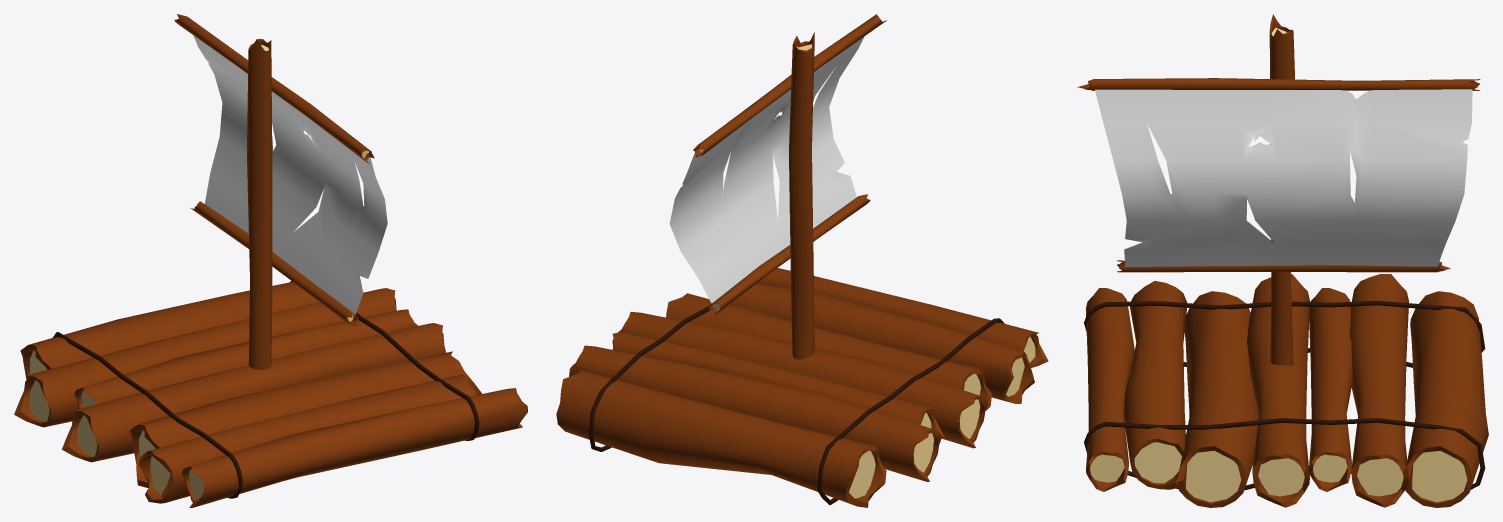
The model's file is Raft.glb.
The picture shows the model from 3 angles, left to right: view 1: azimuth 30°, elevation 25°; view 2: azimuth 150°, elevation 25°; view 3: azimuth 270°, elevation 25°; orthographic projection. The views are drawn at different scales.
Visible parts, largest first — view 1: Plane.001, Cylinder.003, Cylinder, Cylinder.004, Cylinder.001, Cylinder.002, Cylinder.007, Cylinder.006, Cylinder.005, Cylinder.008, Cylinder.009, Rope.001 (+1 smaller); view 2: Plane.001, Cylinder.006, Cylinder.004, Cylinder, Cylinder.002, Cylinder.007, Cylinder.001, Cylinder.005, Cylinder.003, Cylinder.008, Cylinder.009, Rope.001 (+1 smaller); view 3: Plane.001, Cylinder.006, Cylinder.001, Cylinder.004, Cylinder.002, Cylinder, Cylinder.003, Cylinder.005, Cylinder.008, Cylinder.007, Rope, Cylinder.009 (+1 smaller).
Part boxes in pixels (x1,y1,x2,y2): Plane.001: (193, 35, 387, 314); Cylinder.003: (182, 388, 527, 507); Cylinder: (62, 323, 445, 462); Cylinder.004: (14, 288, 396, 427); Cylinder.001: (129, 351, 481, 487); Cylinder.002: (138, 374, 476, 503); Cylinder.007: (247, 38, 272, 369); Cylinder.006: (20, 282, 319, 379); Cylinder.005: (74, 309, 417, 408); Cylinder.008: (174, 14, 374, 164); Cylinder.009: (190, 201, 358, 325); Rope.001: (52, 332, 242, 498); Plane.001: (669, 36, 864, 305); Cylinder.006: (556, 370, 886, 507); Cylinder.004: (569, 345, 941, 481); Cylinder: (618, 312, 987, 448); Cylinder.002: (729, 283, 1034, 403); Cylinder.007: (789, 32, 814, 359); Cylinder.001: (666, 293, 991, 410); Cylinder.005: (612, 332, 944, 438); Cylinder.003: (756, 268, 1048, 367); Cylinder.008: (693, 14, 886, 157); Cylinder.009: (708, 194, 870, 315); Rope.001: (817, 318, 1004, 505); Plane.001: (1095, 89, 1472, 267); Cylinder.006: (1405, 291, 1488, 507); Cylinder.001: (1177, 291, 1258, 507); Cylinder.004: (1349, 274, 1408, 507); Cylinder.002: (1123, 281, 1187, 489); Cylinder: (1247, 274, 1309, 507); Cylinder.003: (1085, 288, 1134, 491); Cylinder.005: (1308, 288, 1352, 491); Cylinder.008: (1077, 78, 1480, 90); Cylinder.007: (1269, 14, 1294, 365); Rope: (1084, 418, 1485, 490); Cylinder.009: (1117, 260, 1450, 272).
Bounding box in the file's own units: 3.53 × 3.66 × 3.26.
